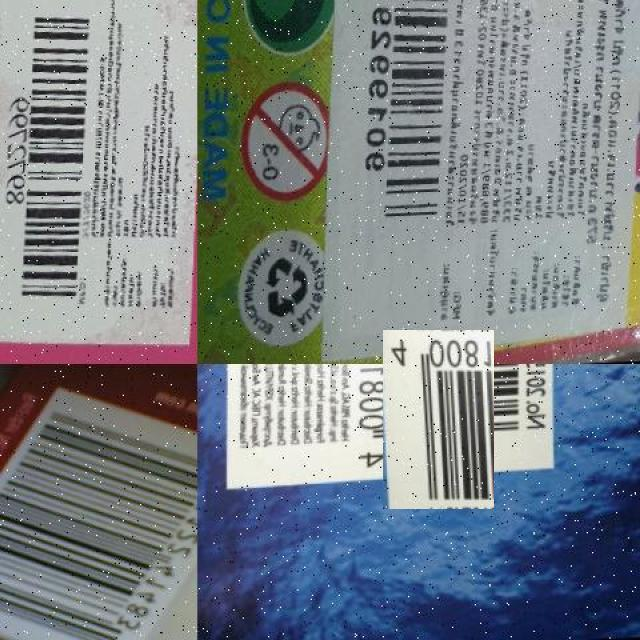Barcode: (0, 378, 197, 640), (6, 0, 98, 320), (363, 0, 453, 249), (366, 347, 511, 493)
